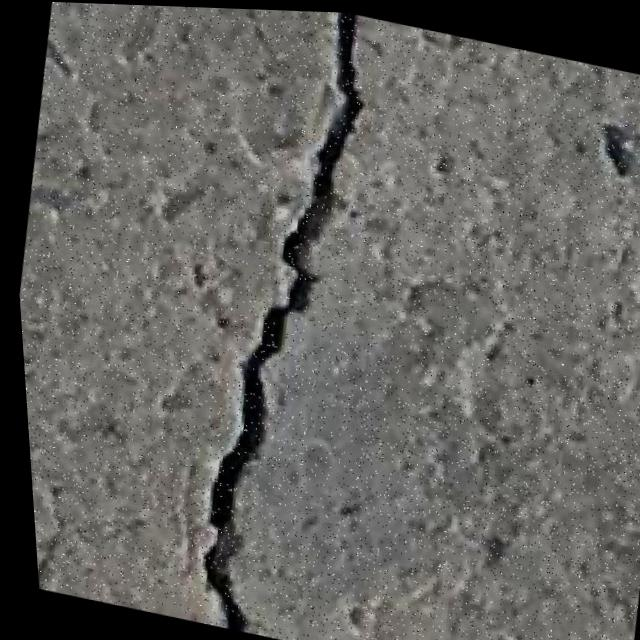Crack: (128, 4, 418, 640)
